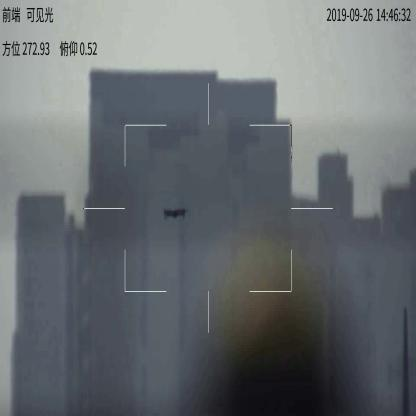uav: (160, 204, 190, 222)
